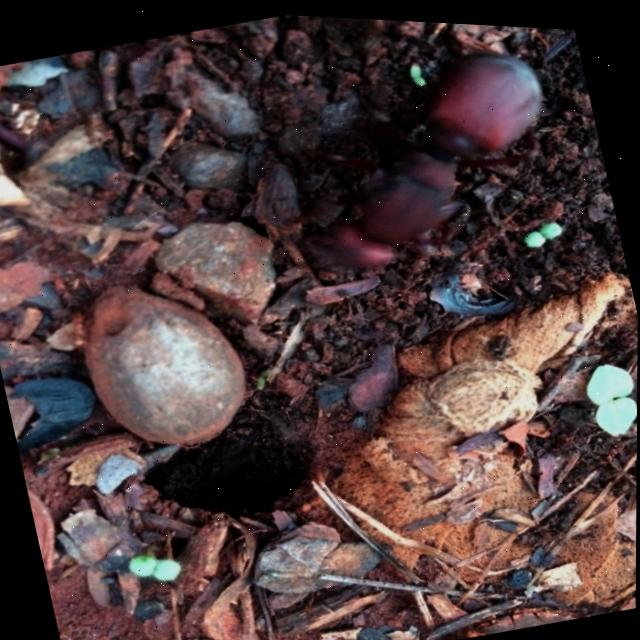Alive-Female-Dealate: (251, 24, 576, 292)
